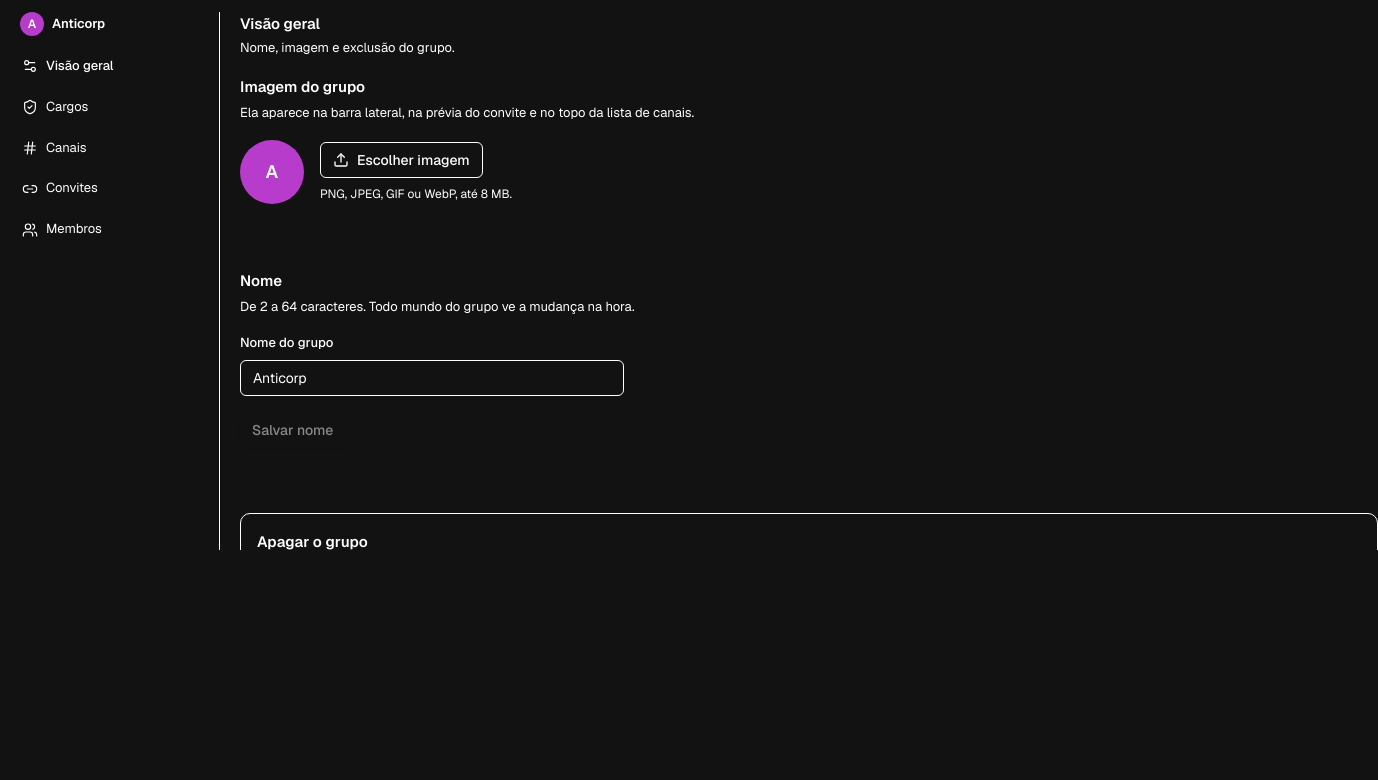
Test: configuracoes › admin ve o nome do canal privado, mas não consegue abri-lo
Step 1. Click the button "Canais" → (110, 148), box x1=12 y1=130 x2=207 y2=166
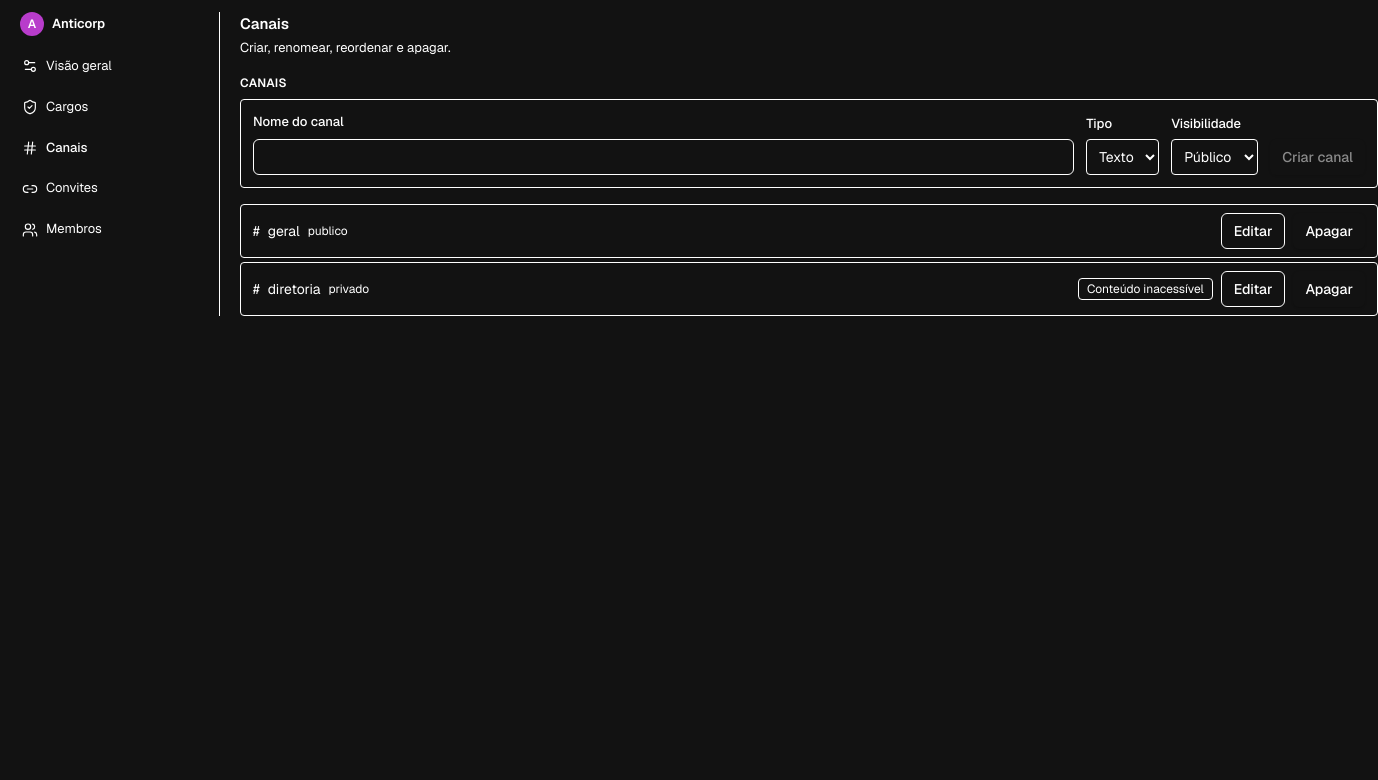
Now the text "diretoria" is shown, box x1=268 y1=279 x2=320 y2=299
Now the text "Conteúdo inacessível" is shown, box x1=1078 y1=278 x2=1213 y2=300
